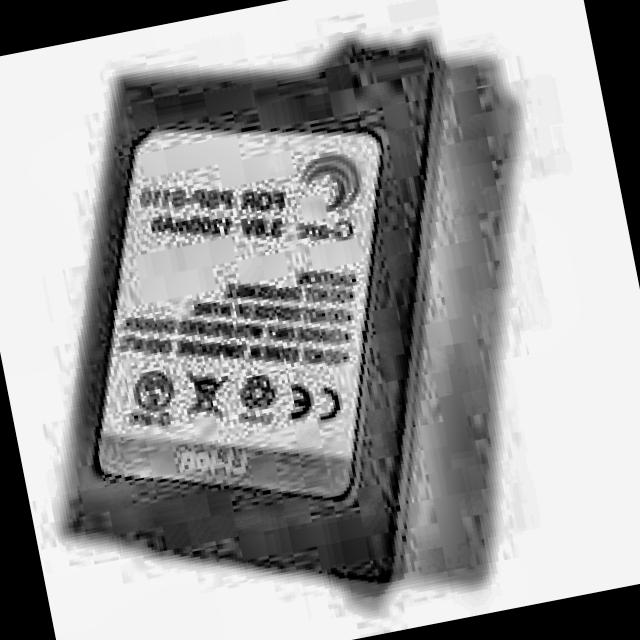Battery: (0, 13, 537, 639)
